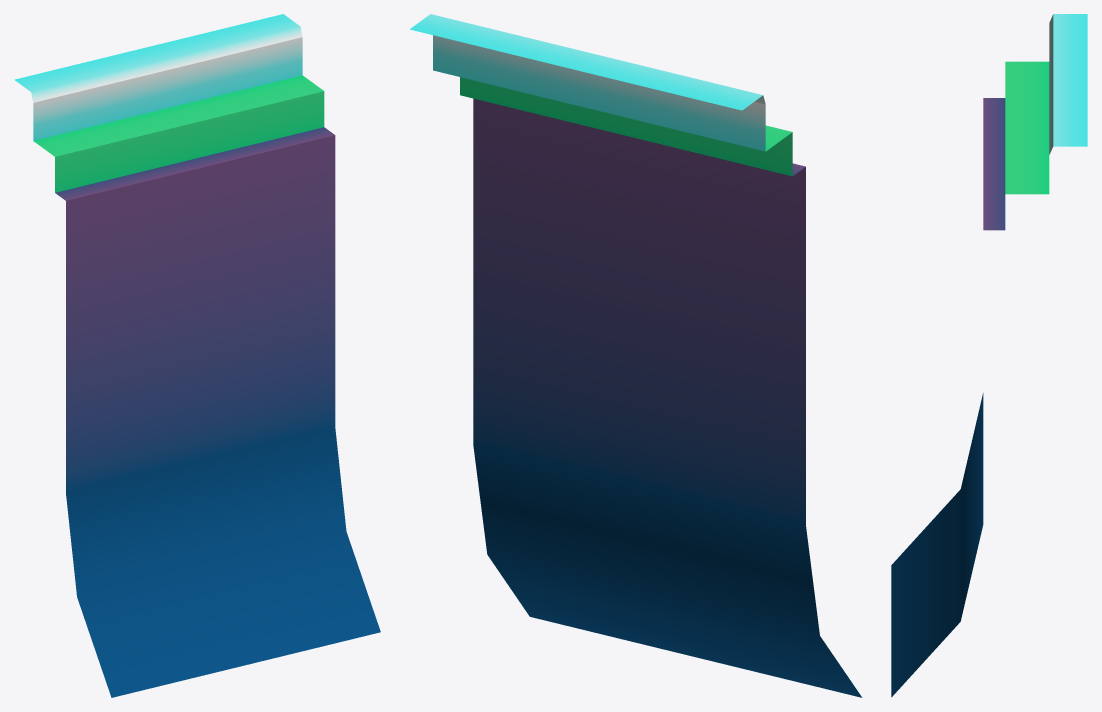
File: Edge.fbx
The picture shows the model from 3 angles, left to right: view 1: azimuth 30°, elevation 25°; view 2: azimuth 150°, elevation 25°; view 3: azimuth 270°, elevation 25°; orthographic projection. The views are drawn at different scales.
Visible parts, largest first — view 1: Edge; view 2: Edge; view 3: Edge.
Boxes of the visible parts, x1=… form: Edge: x1=14, y1=14, x2=380, y2=697; Edge: x1=409, y1=14, x2=862, y2=697; Edge: x1=891, y1=14, x2=1087, y2=697.
Size of the model in its own units: 30 by 58.19 by 18.8.
